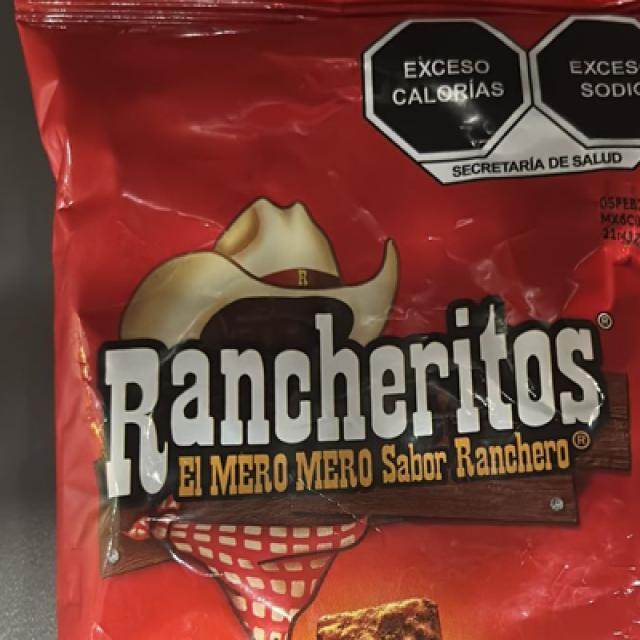rancheritos: (81, 13, 638, 635)
